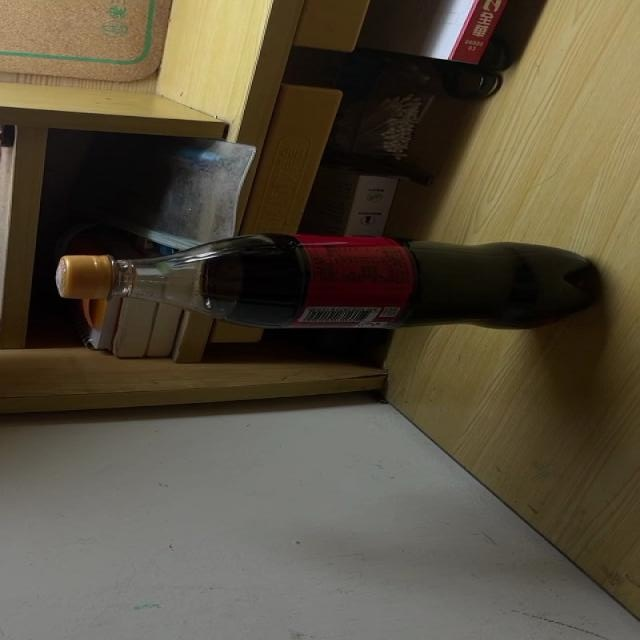Coca-Cola: (57, 234, 596, 331)
